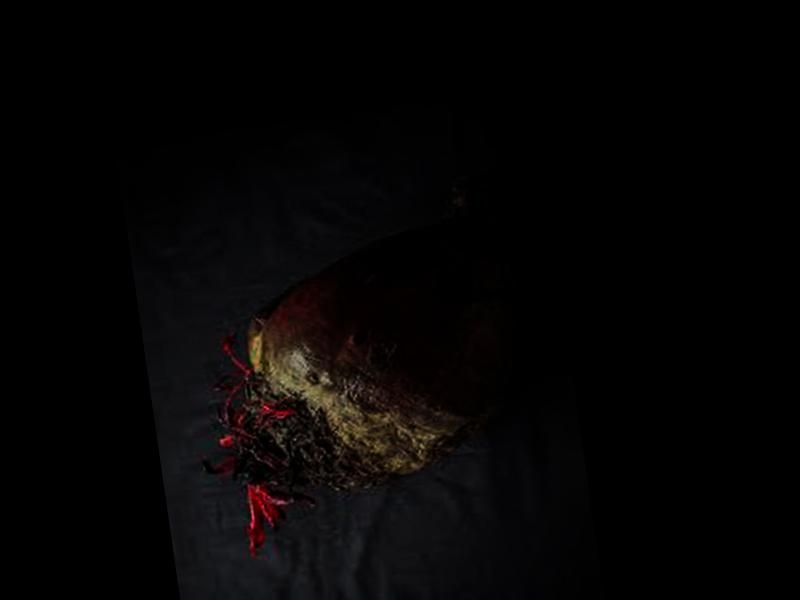Beet: (167, 168, 546, 560)
